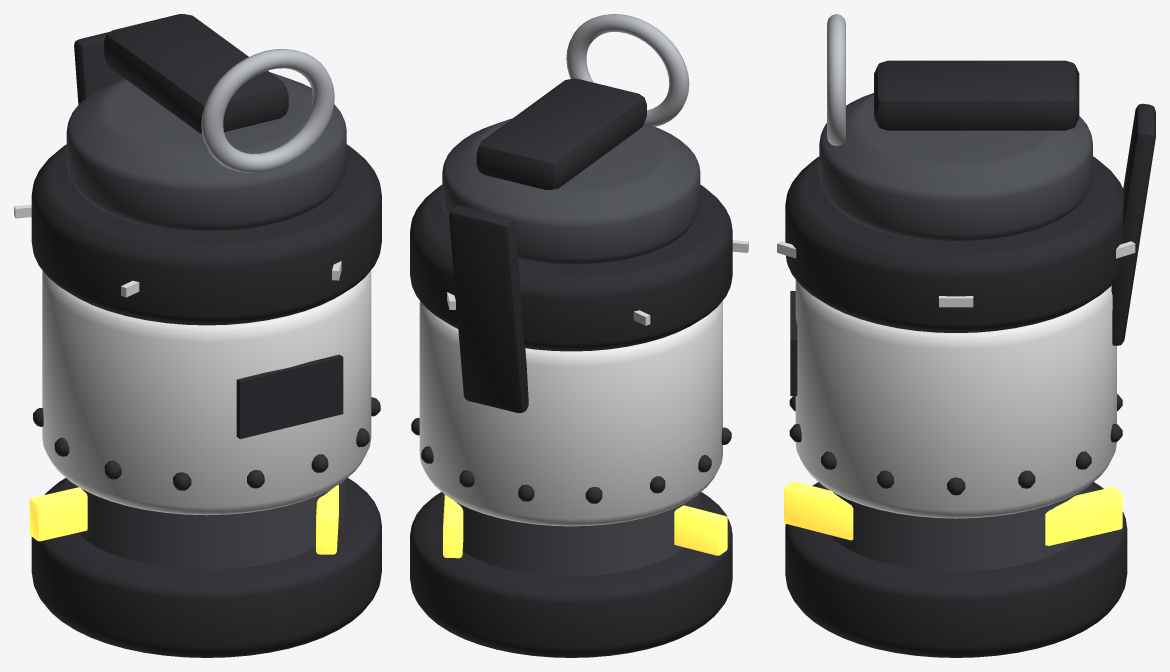
File: cinder_canister.glb
The picture shows the model from 3 angles, left to right: view 1: azimuth 30°, elevation 25°; view 2: azimuth 150°, elevation 25°; view 3: azimuth 270°, elevation 25°; orthographic projection. The views are drawn at different scales.
Parts seen in each view (by area): view 1: Body, Collar, Base, Cap, Cylinder, Cube.014, Torus, Cube.003, Cube.002, Cube.015, Cube.001; view 2: Body, Base, Collar, Cap, Cube.015, Cube.014, Cylinder, Torus, Cube.002, Cube; view 3: Body, Collar, Base, Cap, Cube.014, Cylinder, Cube.015, Cube, Cube.001, Torus, Cube.003.
Part boxes in pixels (x1,y1,x2,y2): Body: [42, 270, 371, 515]; Collar: [31, 144, 381, 325]; Base: [31, 478, 381, 657]; Cap: [66, 72, 346, 231]; Cylinder: [67, 479, 346, 569]; Cube.014: [104, 14, 288, 133]; Torus: [201, 49, 334, 172]; Cube.003: [236, 354, 343, 439]; Cube.002: [29, 487, 87, 541]; Cube.015: [74, 32, 124, 104]; Cube.001: [316, 485, 338, 554]; Body: [419, 301, 722, 526]; Base: [410, 492, 732, 657]; Collar: [410, 184, 732, 351]; Cap: [442, 118, 700, 265]; Cube.015: [449, 205, 528, 413]; Cube.014: [476, 78, 646, 189]; Cylinder: [442, 493, 700, 576]; Torus: [566, 14, 689, 126]; Cube.002: [674, 505, 727, 555]; Cube: [443, 495, 463, 558]; Body: [795, 279, 1116, 518]; Collar: [785, 156, 1123, 332]; Base: [785, 482, 1127, 657]; Cap: [819, 93, 1092, 241]; Cube.014: [874, 60, 1079, 130]; Cylinder: [819, 483, 1092, 571]; Cube.015: [1111, 103, 1155, 345]; Cube: [1045, 487, 1122, 545]; Cube.001: [784, 481, 853, 540]; Torus: [827, 14, 845, 145]; Cube.003: [790, 291, 797, 395].
Size of the model in its own units: 0.1072 by 0.1838 by 0.1108.
